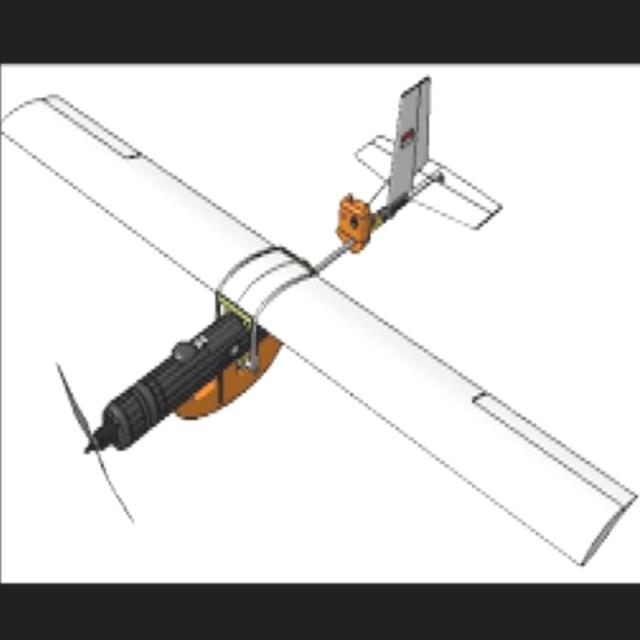plane: (0, 73, 639, 566)
